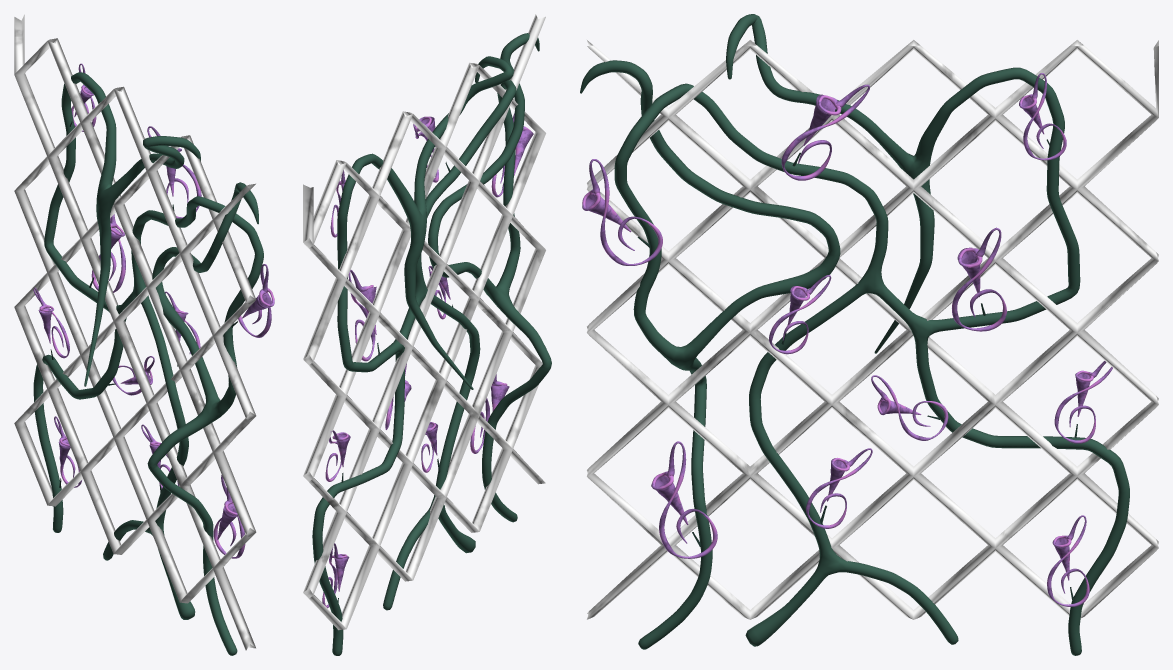
File: MelodyDead.fbx
3 renders of one model, left to right at view 1: azimuth 30°, elevation 25°; view 2: azimuth 150°, elevation 25°; view 3: azimuth 270°, elevation 25°, orthographic. The views are drawn at different scales.
Parts seen in each view (by area): view 1: MelodyPlantable; view 2: MelodyPlantable; view 3: MelodyPlantable.
Part boxes in pixels (x1=…): MelodyPlantable: x1=14, y1=14, x2=274, y2=655; MelodyPlantable: x1=303, y1=14, x2=551, y2=655; MelodyPlantable: x1=580, y1=14, x2=1158, y2=655.
Size of the model in its own units: 129 by 702 by 595.
Materials: 3 (2 with a texture image).
